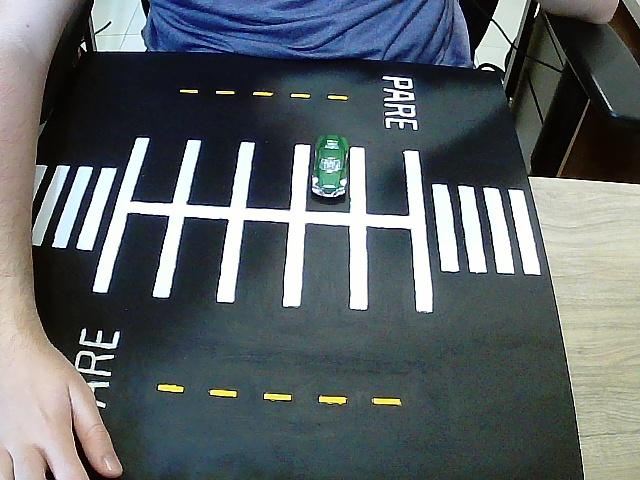Carro: (310, 135, 350, 202)
